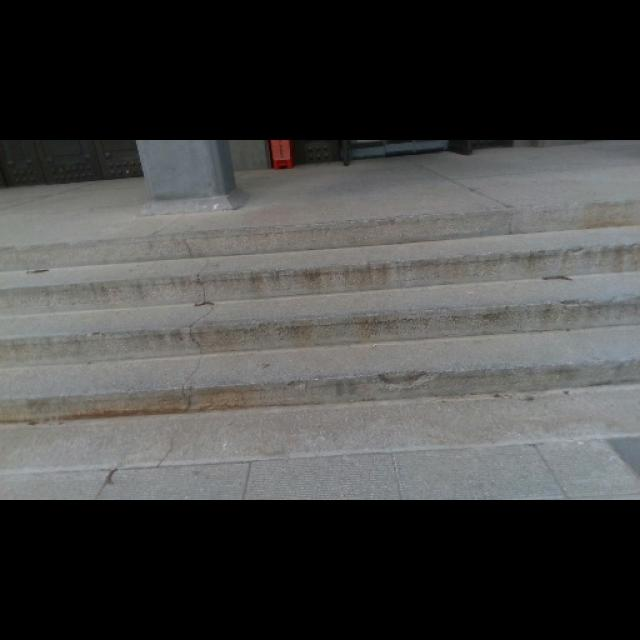Stairs: (0, 199, 639, 496)
